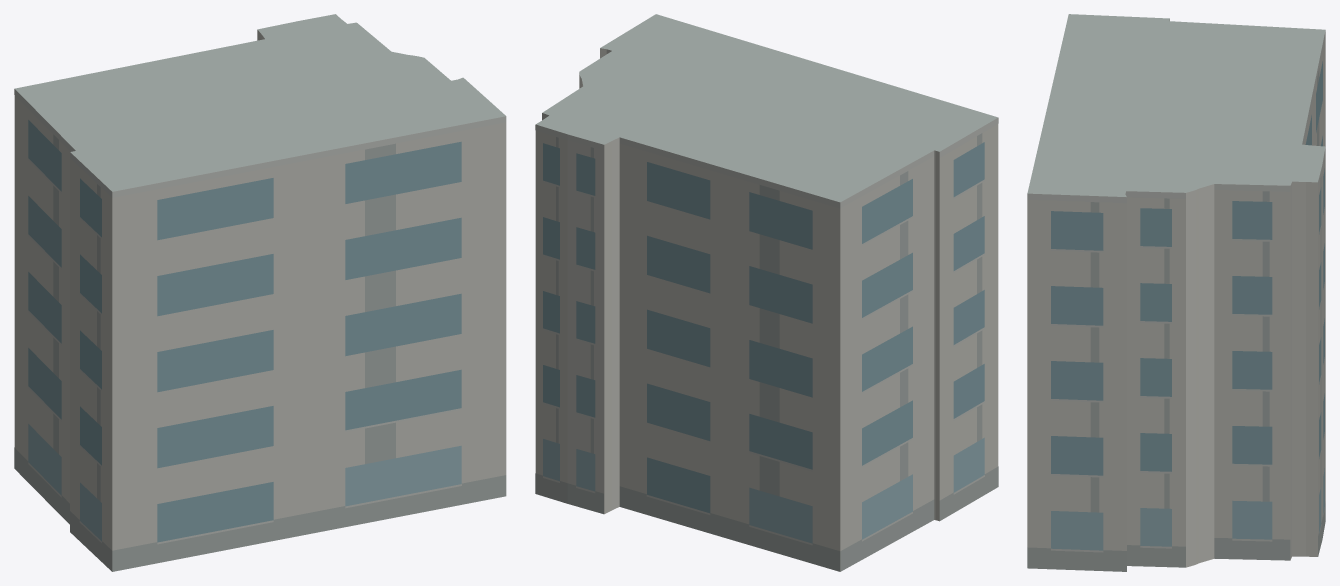
File: survey-upis-32976235.glb
The picture shows the model from 3 angles, left to right: view 1: azimuth 30°, elevation 25°; view 2: azimuth 150°, elevation 25°; view 3: azimuth 270°, elevation 25°; orthographic projection. The views are drawn at different scales.
Visible parts, largest first — view 1: survey-upis-32976235.tmp; view 2: survey-upis-32976235.tmp; view 3: survey-upis-32976235.tmp.
Part boxes in pixels (x1,y1,x2,y2): survey-upis-32976235.tmp: [14, 14, 506, 571]; survey-upis-32976235.tmp: [535, 14, 998, 571]; survey-upis-32976235.tmp: [1027, 14, 1325, 571].
Size of the model in its own units: 15.52 by 14.8 by 10.69.
